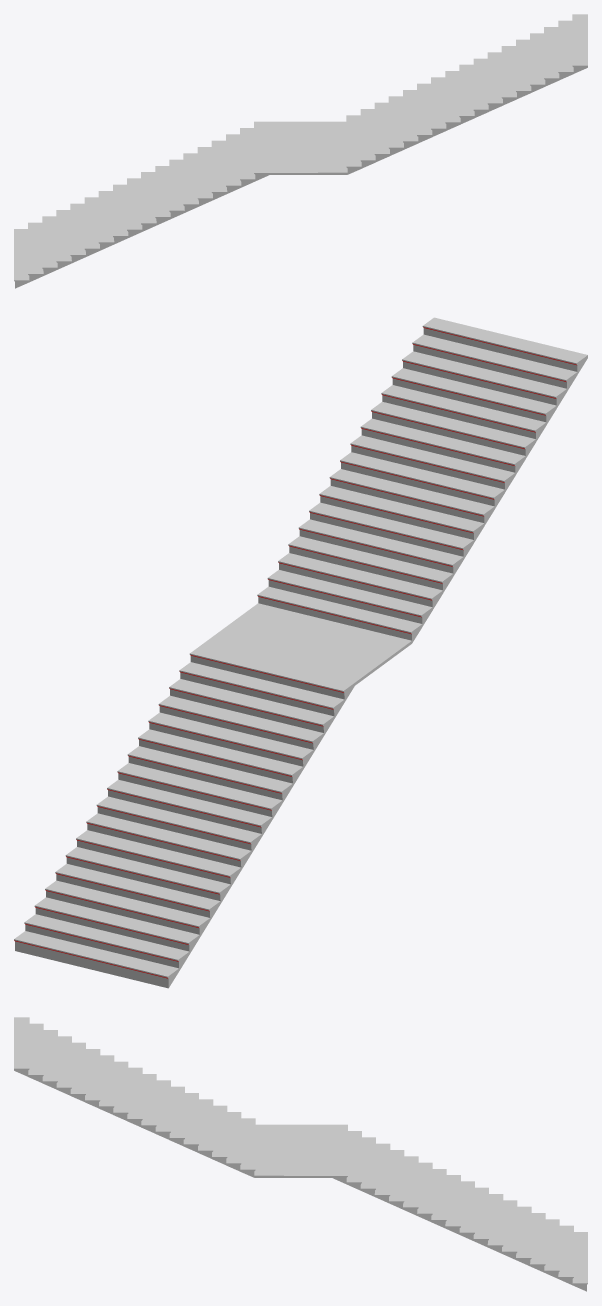
Rendered from MainStairs2.fbx.
The picture shows the model from 3 angles, top to bottom: view 1: azimuth 90°, elevation 25°; view 2: azimuth 150°, elevation 25°; view 3: azimuth 270°, elevation 25°; orthographic projection. The views are drawn at different scales.
Visible parts, largest first — view 1: MainStairs_RD; view 2: MainStairs_RD; view 3: MainStairs_RD.
Boxes of the visible parts, x1,y1,x2,y2 form: MainStairs_RD: (14,14,587,288); MainStairs_RD: (14,317,587,988); MainStairs_RD: (14,1017,587,1291).
Bounding box in the file's own units: 261 × 530 × 1237.
